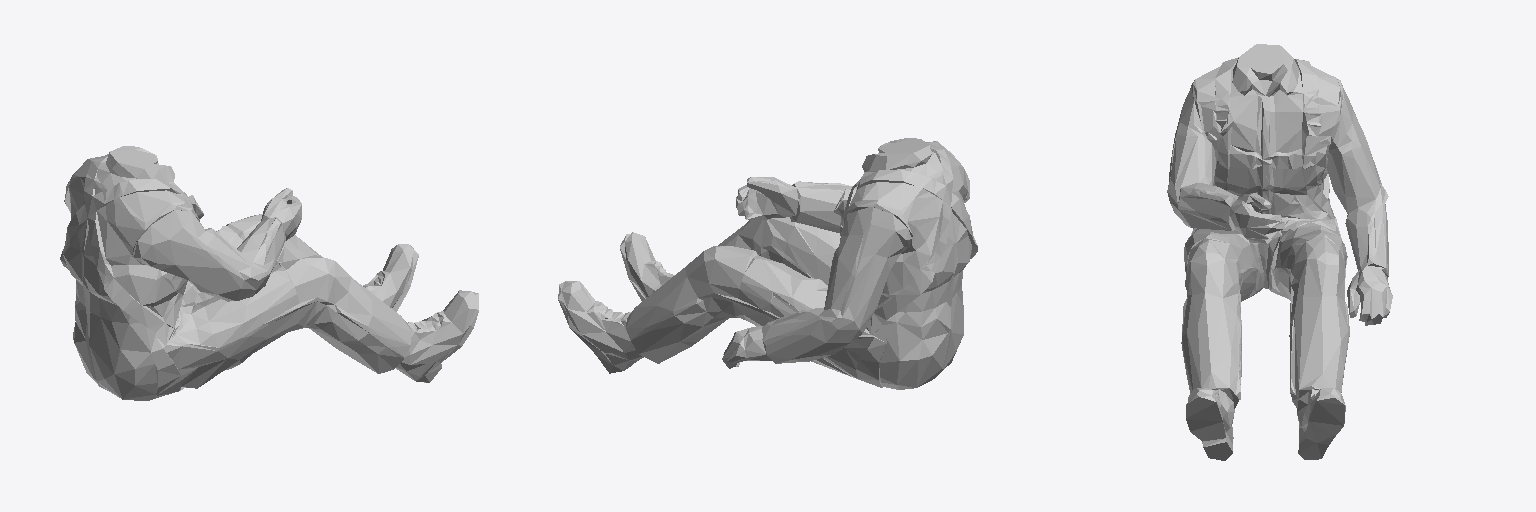
The model's file is body3.obj.
3 renders of one model, left to right at view 1: azimuth 30°, elevation 25°; view 2: azimuth 150°, elevation 25°; view 3: azimuth 270°, elevation 25°, orthographic.
Visible parts, largest first — view 1: PILOT.001; view 2: PILOT.001; view 3: PILOT.001.
Part boxes in pixels (x1,y1,x2,y2): PILOT.001: (60,146,478,400); PILOT.001: (558,138,977,389); PILOT.001: (1167,44,1392,460).
Size of the model in its own units: 0.1312 by 0.0958 by 0.0704.